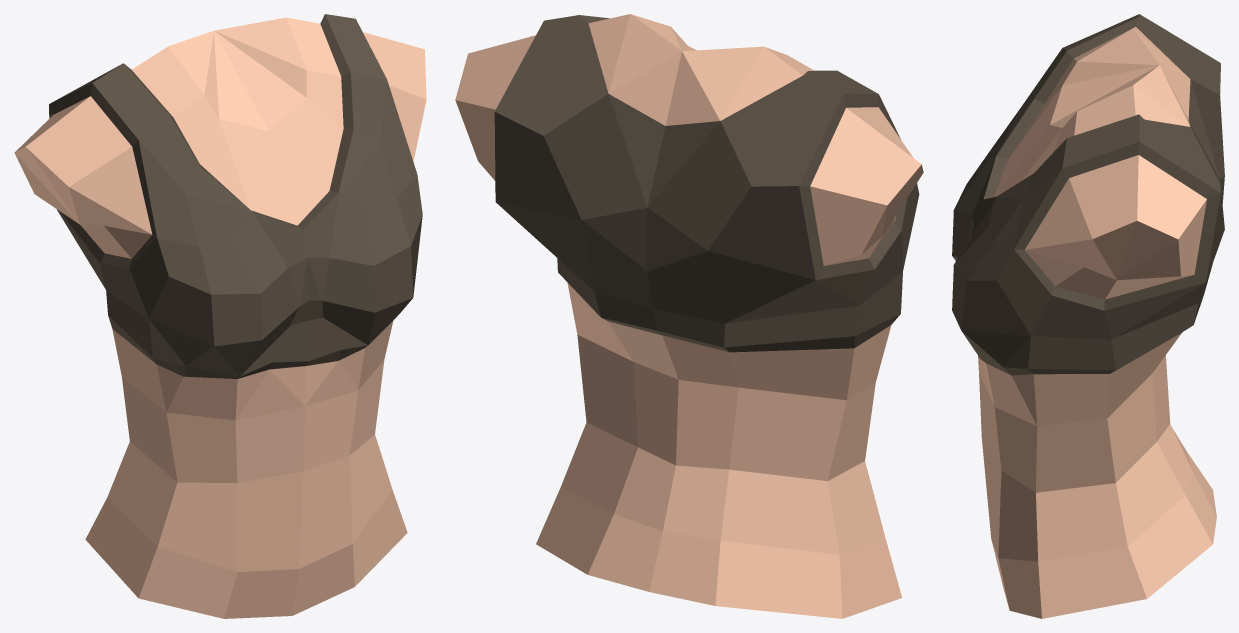
Rendered from Chr_Torso_Female_00_Static.fbx.
3 views of the same model, side by side, from view 1: azimuth 30°, elevation 25°; view 2: azimuth 150°, elevation 25°; view 3: azimuth 270°, elevation 25° (orthographic). The views are drawn at different scales.
Visible parts, largest first — view 1: Chr_Torso_Female_00_Static; view 2: Chr_Torso_Female_00_Static; view 3: Chr_Torso_Female_00_Static.
Part boxes in pixels (box(x1,y1,x2,y2)): Chr_Torso_Female_00_Static: box(14, 14, 426, 618); Chr_Torso_Female_00_Static: box(455, 14, 923, 618); Chr_Torso_Female_00_Static: box(952, 14, 1224, 618).
Size of the model in its own units: 0.4985 by 0.6401 by 0.297.
